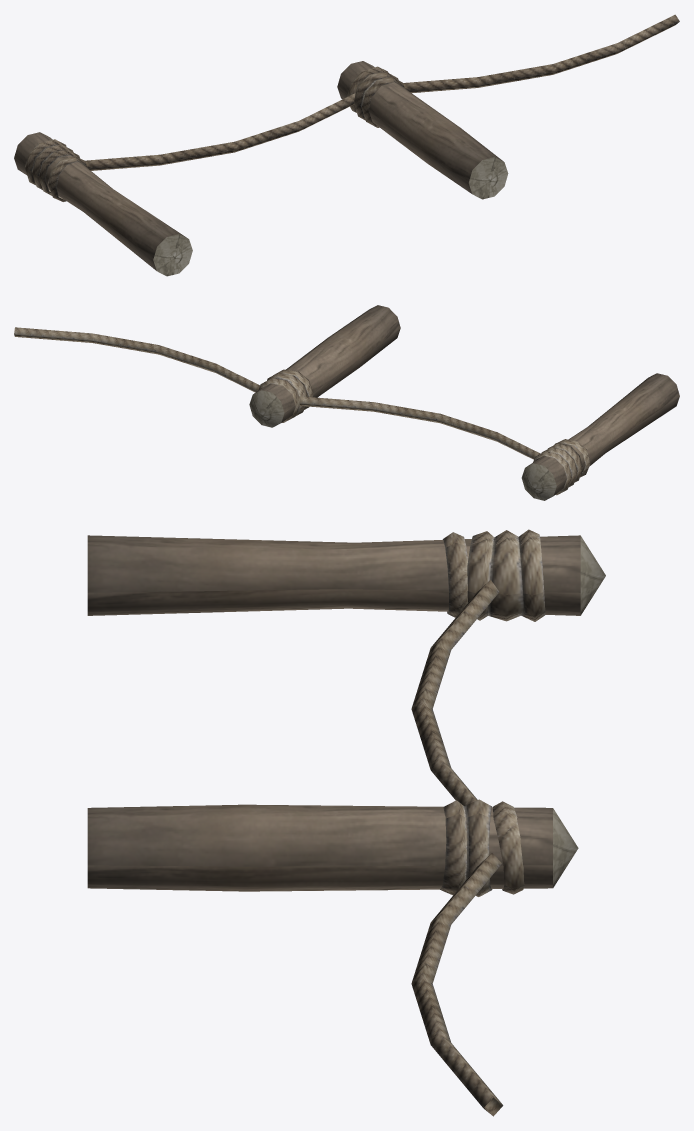
File: Fence_Type_01_B.fbx
3 renders of one model, top to bottom at view 1: azimuth 30°, elevation 25°; view 2: azimuth 150°, elevation 25°; view 3: azimuth 270°, elevation 25°, orthographic. The views are drawn at different scales.
Visible parts, largest first — view 1: Fence_Type_01_B; view 2: Fence_Type_01_B; view 3: Fence_Type_01_B.
Boxes of the visible parts, x1=… form: Fence_Type_01_B: x1=14, y1=14, x2=679, y2=276; Fence_Type_01_B: x1=14, y1=305, x2=679, y2=500; Fence_Type_01_B: x1=87, y1=529, x2=605, y2=1116.
Bounding box in the file's own units: 4.08 × 0.2942 × 1.61.
